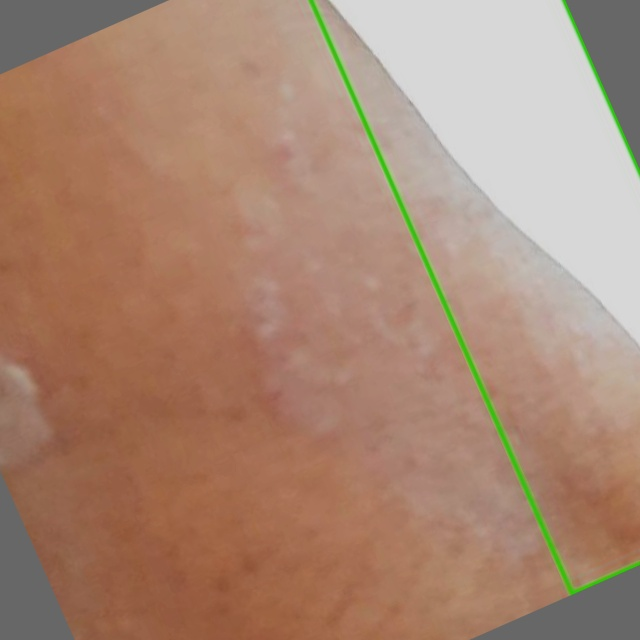Tinea Corporis: (311, 0, 639, 593)
